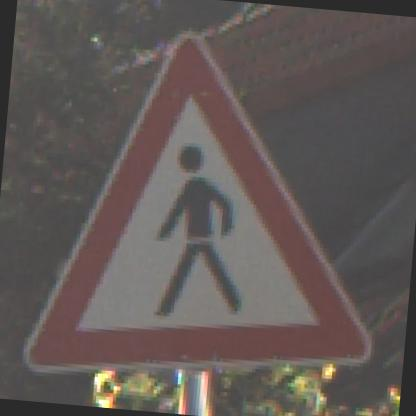crosswalk: (15, 16, 404, 405)
